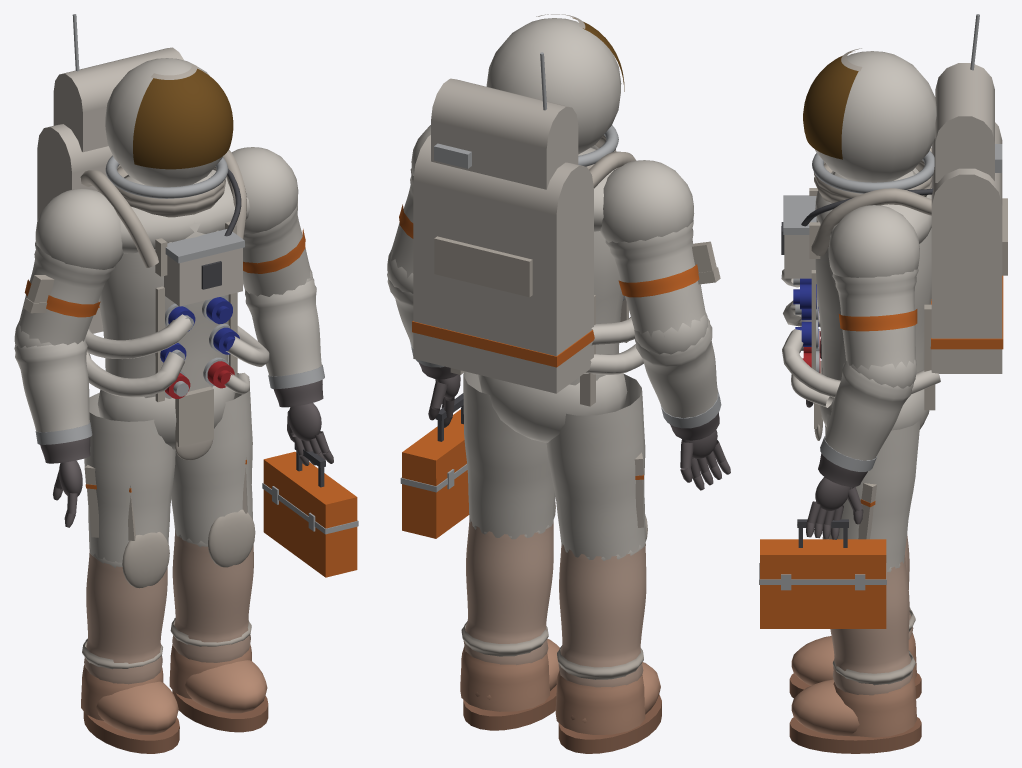
The model's file is C02_colonist_toolcase.glb.
The picture shows the model from 3 angles, left to right: view 1: azimuth 30°, elevation 25°; view 2: azimuth 150°, elevation 25°; view 3: azimuth 270°, elevation 25°; orthographic projection. The views are drawn at different scales.
Parts seen in each view (by area): view 1: thigh, knee_patch, shin, unit_top, pocket_stripe, unit, boot_shaft, oxygen_hose, gauntlet, suit_connector; view 2: thigh, unit, shin, pocket_stripe, boot_shaft, knee_patch, gauntlet, unit_top, oxygen_hose; view 3: thigh, unit, pocket_stripe, unit_top, knee_patch, boot_shaft, shin, gauntlet, oxygen_hose, suit_connector.
Part boxes in pixels (<box>): thigh: <box>14,58,321,567</box>; knee_patch: <box>23,64,255,669</box>; shin: <box>84,530,253,684</box>; unit_top: <box>35,14,358,534</box>; pocket_stripe: <box>24,168,357,753</box>; unit: <box>37,47,242,333</box>; boot_shaft: <box>81,644,267,734</box>; oxygen_hose: <box>85,314,269,397</box>; gauntlet: <box>40,379,333,527</box>; suit_connector: <box>160,297,239,398</box>; thigh: <box>387,18,717,560</box>; unit: <box>413,78,593,393</box>; shin: <box>463,519,646,687</box>; pocket_stripe: <box>399,204,699,753</box>; boot_shaft: <box>460,639,660,734</box>; knee_patch: <box>434,14,720,679</box>; gauntlet: <box>418,362,730,490</box>; unit_top: <box>400,17,721,492</box>; oxygen_hose: <box>584,317,643,374</box>; thigh: <box>815,51,936,572</box>; unit: <box>784,63,1002,373</box>; pocket_stripe: <box>760,188,1003,753</box>; unit_top: <box>759,14,1002,590</box>; knee_patch: <box>809,48,1007,685</box>; boot_shaft: <box>791,633,916,737</box>; shin: <box>830,534,913,695</box>; gauntlet: <box>806,338,867,539</box>; oxygen_hose: <box>781,269,940,407</box>; suit_connector: <box>793,278,820,372</box>.
Size of the model in its own units: 0.9324 by 2.02 by 0.6702.
